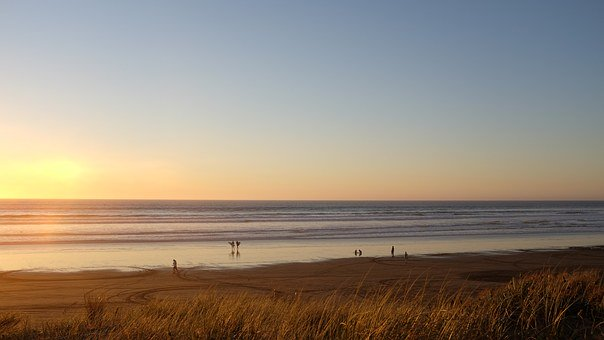beach: (4, 198, 604, 333)
sky: (1, 1, 601, 201)
